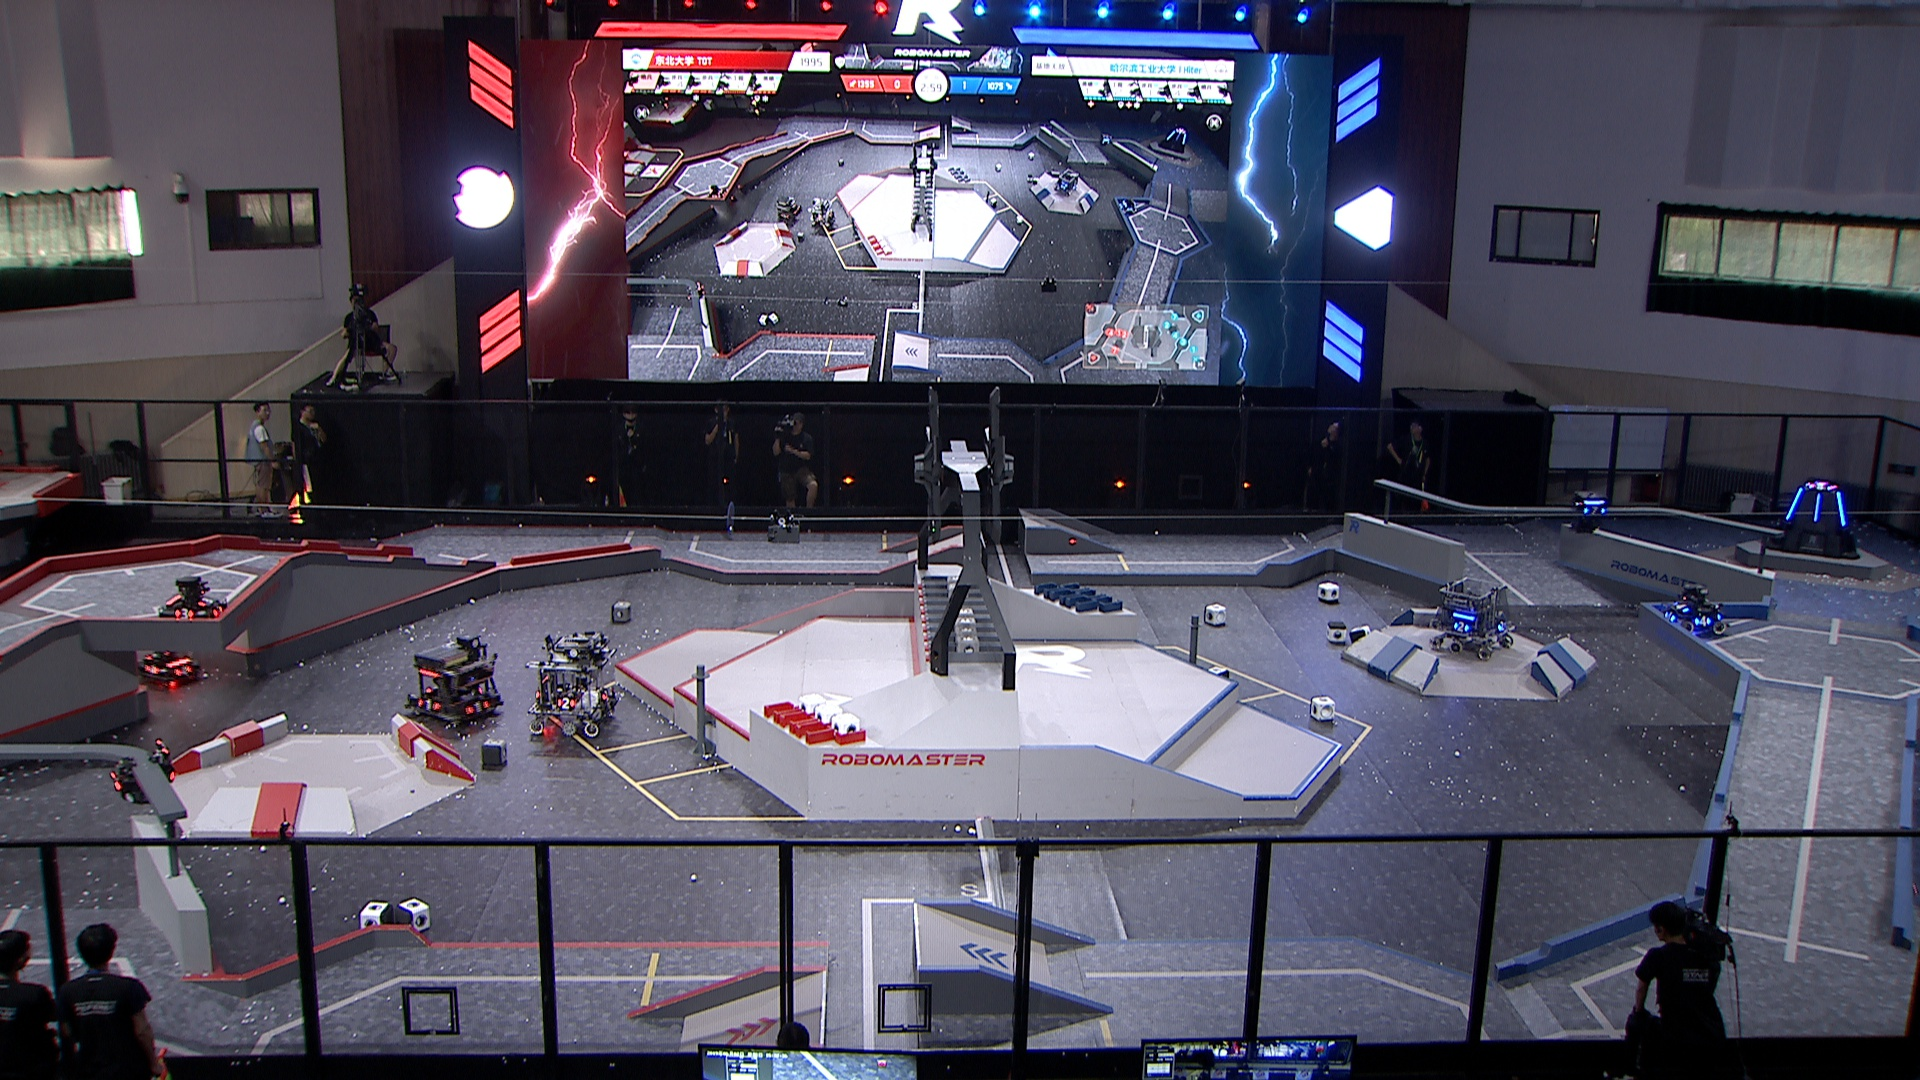armor: (1780, 484, 1804, 522), (460, 695, 491, 717), (105, 766, 127, 796), (415, 695, 443, 717), (1836, 489, 1849, 531), (169, 661, 195, 679), (1693, 611, 1716, 632), (1582, 502, 1607, 520), (555, 694, 578, 712), (193, 591, 216, 608), (207, 600, 225, 621), (1811, 493, 1822, 522), (1673, 597, 1692, 616), (171, 607, 193, 622), (1451, 617, 1472, 633), (140, 662, 161, 676), (1660, 609, 1676, 626), (1495, 618, 1509, 636), (600, 688, 613, 703)
base: (1760, 480, 1865, 560)
car: (524, 628, 624, 746), (404, 638, 502, 725), (1428, 575, 1520, 659), (152, 574, 233, 636), (1658, 580, 1733, 638), (129, 637, 204, 687)
ignore: (803, 196, 836, 232), (1156, 127, 1191, 156), (773, 194, 804, 222), (1051, 167, 1079, 196), (1808, 480, 1837, 493)
watcher: (102, 736, 182, 806), (1571, 485, 1609, 537)
